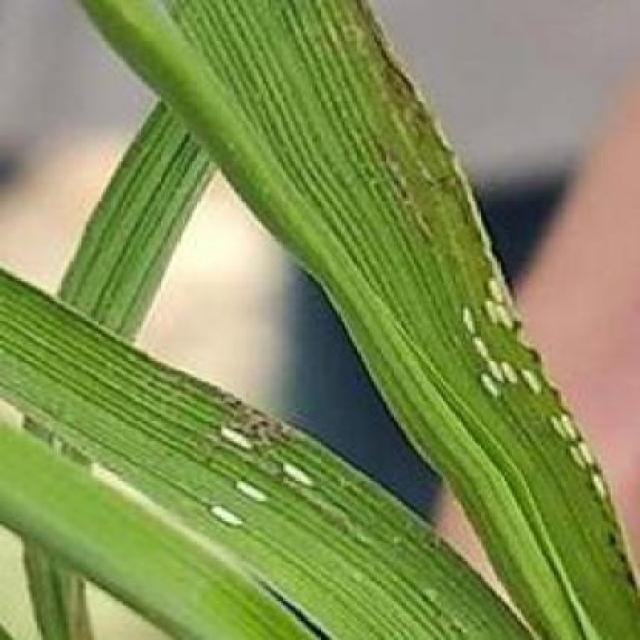whorl-maggot: (191, 494, 251, 537), (276, 456, 335, 498), (238, 470, 282, 512), (218, 418, 260, 454), (442, 300, 484, 332), (514, 360, 552, 395), (565, 447, 603, 481), (556, 415, 593, 448), (462, 332, 500, 363), (482, 277, 518, 308), (468, 370, 501, 401)
